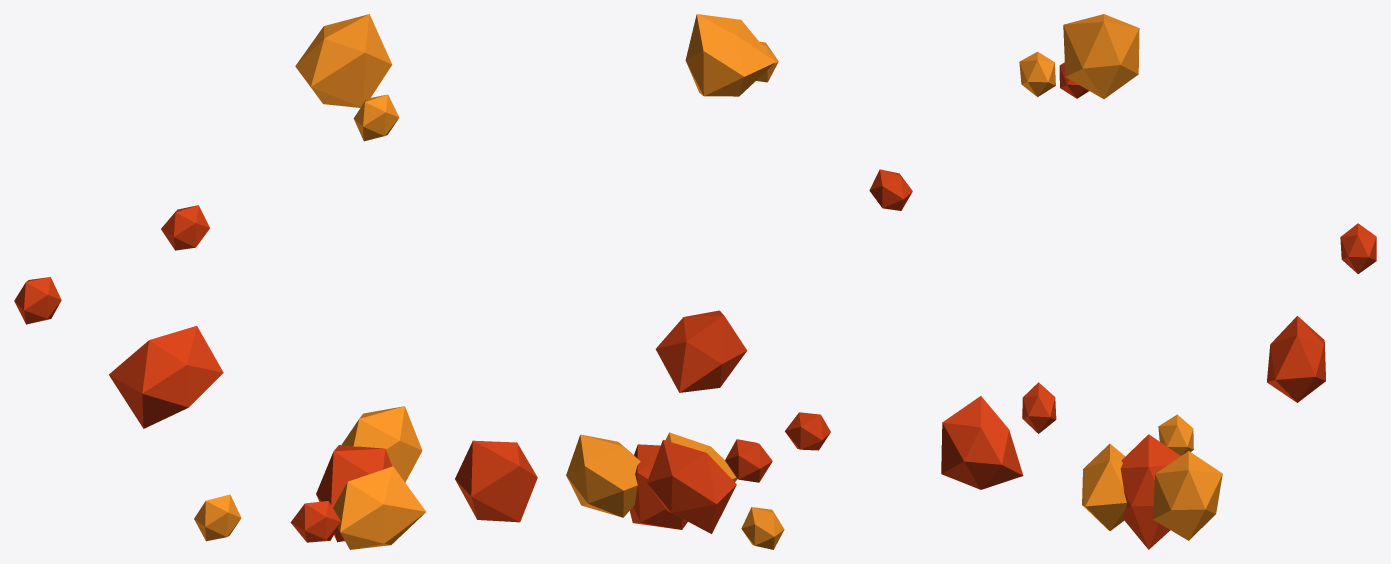
The model's file is frame_11.glb.
The picture shows the model from 3 angles, left to right: view 1: azimuth 30°, elevation 25°; view 2: azimuth 150°, elevation 25°; view 3: azimuth 270°, elevation 25°; orthographic projection. The views are drawn at different scales.
Parts seen in each view (by area): view 1: effect_explosion_large_frame_11; view 2: effect_explosion_large_frame_11; view 3: effect_explosion_large_frame_11.
Boxes of the visible parts, x1,y1,x2,y2 form: effect_explosion_large_frame_11: (14, 14, 537, 549); effect_explosion_large_frame_11: (566, 14, 912, 549); effect_explosion_large_frame_11: (941, 14, 1376, 549).
Size of the model in its own units: 11.91 by 19.7 by 15.32.
